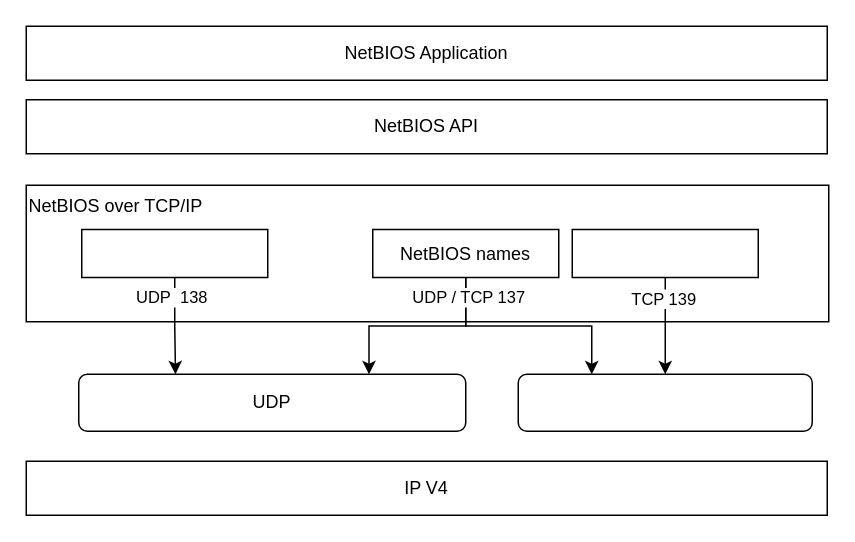
The diagram is 855 pixels wide and 542 high, and some of its shapes have lost their labels. The centre of each missing label's shape, as x and y in pixels:
"NetBIOS datagrams" goes at point (174, 253).
"NetBIOS sessions" goes at point (664, 253).
"TCP" goes at point (664, 402).
